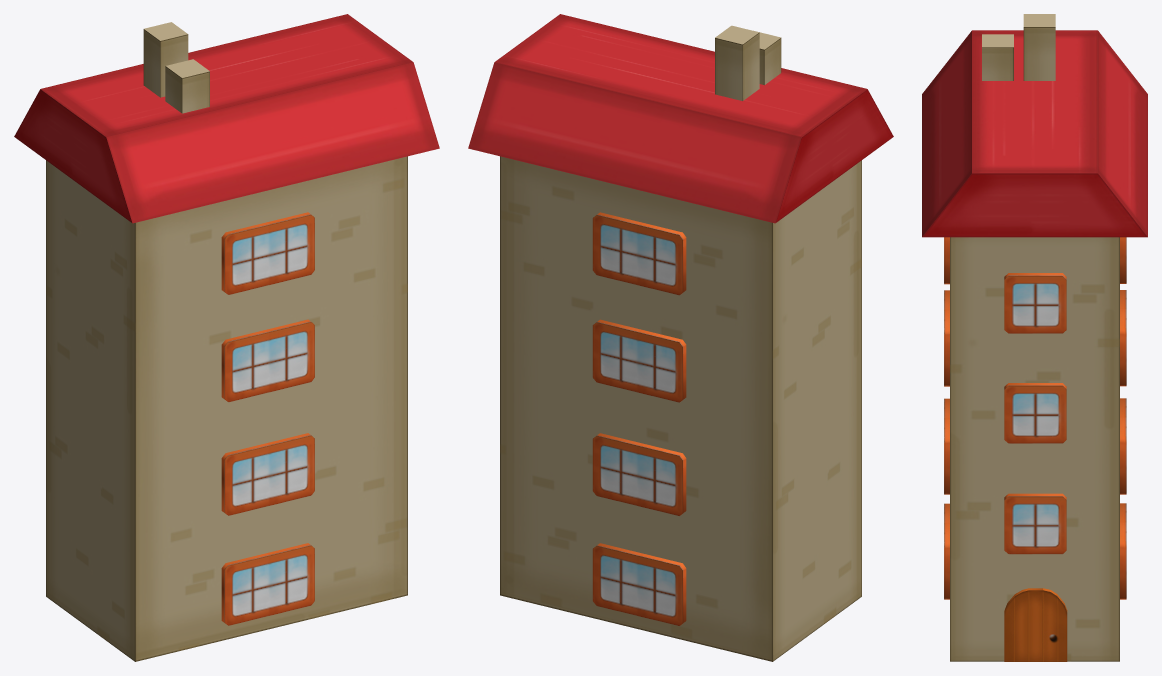
File: House_12.fbx
3 renders of one model, left to right at view 1: azimuth 30°, elevation 25°; view 2: azimuth 150°, elevation 25°; view 3: azimuth 270°, elevation 25°, orthographic. The views are drawn at different scales.
Parts seen in each view (by area): view 1: House_12; view 2: House_12; view 3: House_12.
Part boxes in pixels (x1,y1,x2,y2): House_12: (14,14,439,661); House_12: (468,14,893,661); House_12: (922,14,1147,661).
Bounding box in the file's own units: 7.89 × 14.15 × 5.27.
